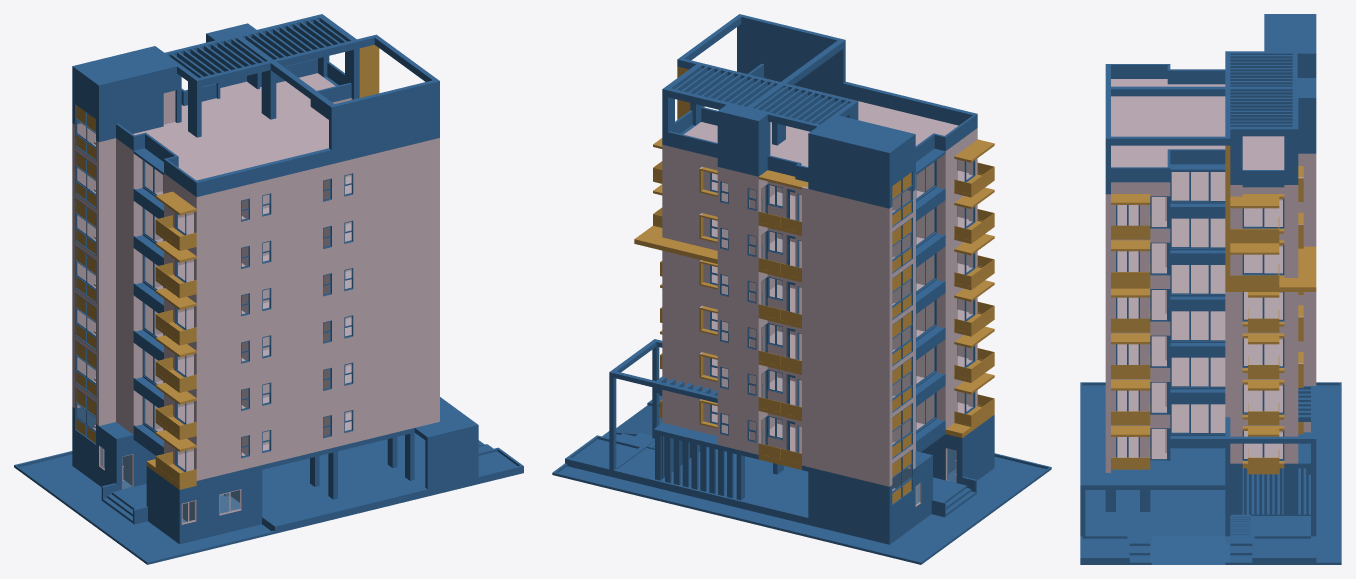
The model's file is ApartmentBuilding.glb.
3 renders of one model, left to right at view 1: azimuth 30°, elevation 25°; view 2: azimuth 150°, elevation 25°; view 3: azimuth 270°, elevation 25°, orthographic. The views are drawn at different scales.
Parts seen in each view (by area): view 1: AB1_OBJ_01, AB1_OBJ_06, AB1_OBJ_09, AB1_OBJ_13, AB1_OBJ_11, AB1_OBJ_12, AB1_OBJ_02, AB1_OBJ_04, AB1_OBJ_10, AB1_OBJ_02.003, AB1_OBJ_02.006, AB1_OBJ_02.005 (+4 smaller); view 2: AB1_OBJ_01, AB1_OBJ_06, AB1_OBJ_09, AB1_OBJ_12, AB1_OBJ_11, AB1_OBJ_13, AB1_OBJ_04, AB1_OBJ_02, AB1_OBJ_02.006, AB1_OBJ_02.003, AB1_OBJ_03, AB1_OBJ_10 (+3 smaller); view 3: AB1_OBJ_13, AB1_OBJ_09, AB1_OBJ_06, AB1_OBJ_01, AB1_OBJ_12, AB1_OBJ_02.006, AB1_OBJ_02, AB1_OBJ_10, AB1_OBJ_11, AB1_OBJ_03, AB1_OBJ_02.001, AB1_OBJ_01.001.
Part boxes in pixels (box(x1,y1,x2,y2)): AB1_OBJ_01: box(72, 73, 439, 480); AB1_OBJ_06: box(72, 14, 439, 196); AB1_OBJ_09: box(14, 433, 523, 564); AB1_OBJ_13: box(133, 74, 351, 471); AB1_OBJ_11: box(72, 407, 414, 537); AB1_OBJ_12: box(146, 44, 379, 489); AB1_OBJ_02: box(133, 148, 163, 454); AB1_OBJ_04: box(145, 162, 345, 454); AB1_OBJ_10: box(414, 397, 478, 489); AB1_OBJ_02.003: box(76, 105, 95, 443); AB1_OBJ_02.006: box(77, 121, 162, 430); AB1_OBJ_02.005: box(241, 173, 353, 458); AB1_OBJ_01: box(662, 122, 977, 486); AB1_OBJ_06: box(662, 14, 977, 208); AB1_OBJ_09: box(552, 393, 1051, 564); AB1_OBJ_12: box(634, 66, 994, 469); AB1_OBJ_11: box(653, 415, 994, 537); AB1_OBJ_13: box(686, 87, 972, 451); AB1_OBJ_04: box(749, 162, 934, 453); AB1_OBJ_02: box(916, 148, 945, 450); AB1_OBJ_02.006: box(893, 163, 933, 489); AB1_OBJ_02.003: box(892, 172, 911, 503); AB1_OBJ_03: box(761, 159, 975, 452); AB1_OBJ_10: box(609, 339, 717, 477); AB1_OBJ_13: box(1111, 79, 1284, 458); AB1_OBJ_09: box(1080, 382, 1341, 564); AB1_OBJ_06: box(1105, 14, 1316, 194); AB1_OBJ_01: box(1105, 79, 1316, 472); AB1_OBJ_12: box(1111, 145, 1316, 474); AB1_OBJ_02.006: box(1152, 172, 1224, 458); AB1_OBJ_02: box(1170, 164, 1225, 448); AB1_OBJ_10: box(1080, 386, 1316, 536); AB1_OBJ_11: box(1105, 432, 1310, 514); AB1_OBJ_03: box(1116, 199, 1284, 460); AB1_OBJ_02.001: box(1150, 196, 1170, 460); AB1_OBJ_01.001: box(1298, 166, 1303, 434).
Bounding box in the file's own units: 48.43 × 49.14 × 29.7.
